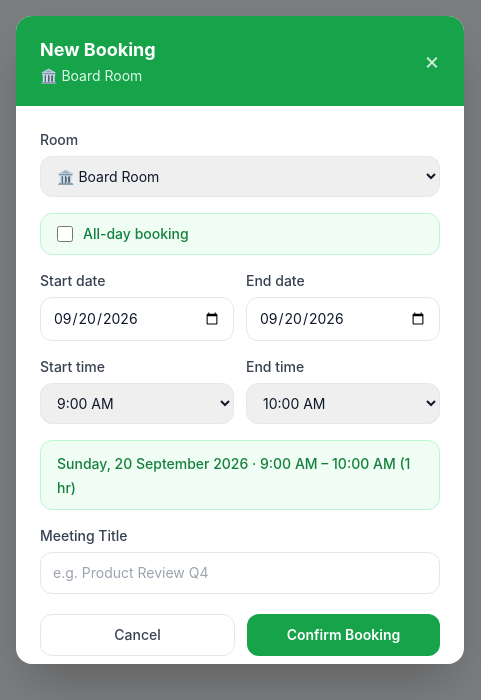
Test: BookingModal › blocks submit without a title
This screenshot has width=481, height=700.
Click the button "Confirm Booking" at [344, 635], box [247, 614, 440, 656]
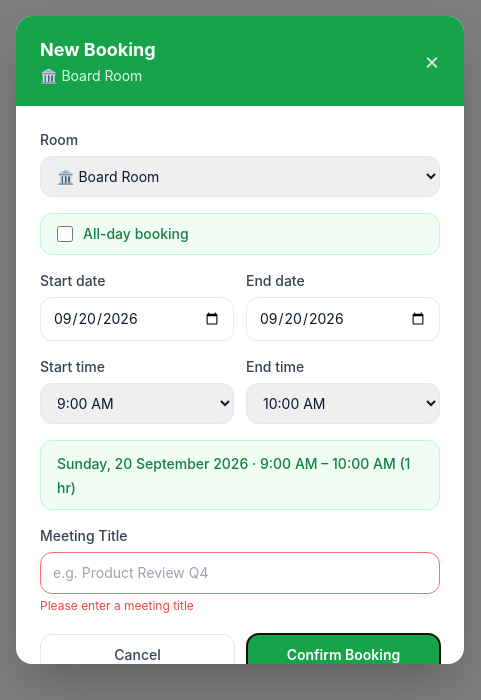
Now the text "Please enter a meeting title" is shown, box [40, 598, 194, 613]
